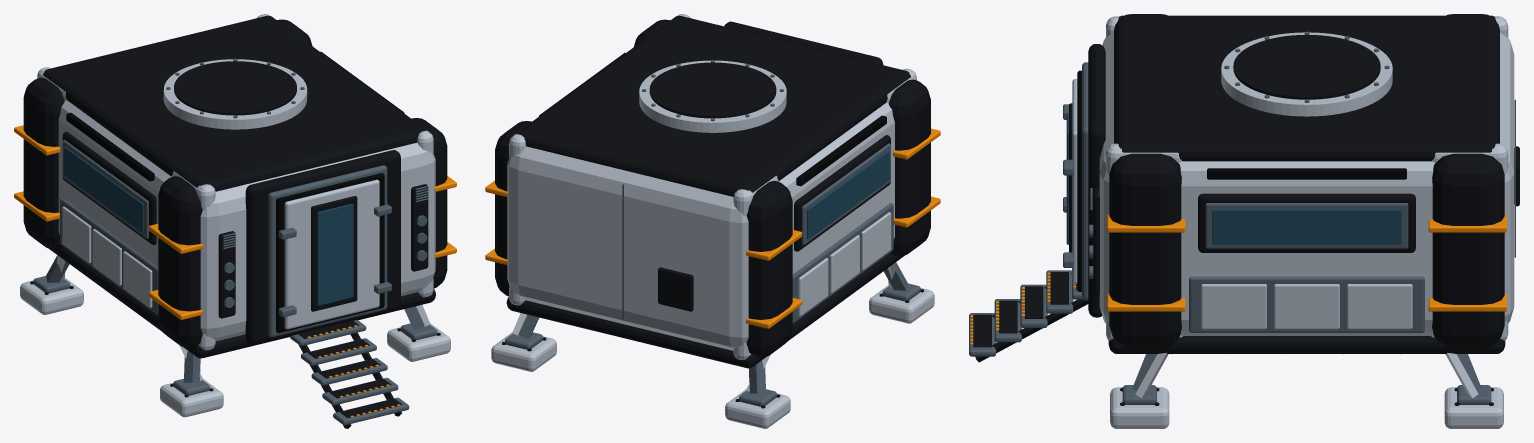
Rendered from base_colony.obj.
3 views of the same model, side by side, from view 1: azimuth 30°, elevation 25°; view 2: azimuth 150°, elevation 25°; view 3: azimuth 270°, elevation 25° (orthographic). The views are drawn at different scales.
Parts seen in each view (by area): view 1: Roof graphite cap_2, Pressurised habitat shell_0, Entrance dark octagonal surround_65, Airlock door_68, Corner impact pod_17, Roof hatch inset_4, Corner impact pod_29, Door glass_70, Roof hatch surround_3, Entrance inner metal rim_66, Underside chassis_1, Entrance shadow gasket_67 (+30 smaller); view 2: Pressurised habitat shell_0, Roof graphite cap_2, Corner impact pod_29, Roof hatch inset_4, Corner impact pod_17, Underside chassis_1, Roof hatch surround_3, Window blue pane_98, Corner impact pod_53, Lower side panel_99, Window black frame_96, Landing foot_57 (+16 smaller); view 3: Roof graphite cap_2, Pressurised habitat shell_0, Corner impact pod_41, Corner impact pod_53, Roof hatch inset_4, Window blue pane_110, Underside chassis_1, Lower side panel_111, Roof hatch surround_3, Window black frame_108, Entrance dark octagonal surround_65, Inset armour tile_113 (+30 smaller).
Boxes of the visible parts, <box> form: Roof graphite cap_2: <box>43,15,427,191</box>; Pressurised habitat shell_0: <box>58,100,435,341</box>; Entrance dark octagonal surround_65: <box>245,150,400,344</box>; Airlock door_68: <box>284,179,379,329</box>; Corner impact pod_17: <box>158,176,202,347</box>; Roof hatch inset_4: <box>174,61,296,115</box>; Corner impact pod_29: <box>23,77,64,249</box>; Door glass_70: <box>317,203,353,305</box>; Roof hatch surround_3: <box>163,59,307,129</box>; Entrance inner metal rim_66: <box>268,165,387,337</box>; Underside chassis_1: <box>49,246,435,358</box>; Entrance shadow gasket_67: <box>276,173,384,333</box>; Pressurised habitat shell_0: <box>507,103,894,350</box>; Roof graphite cap_2: <box>516,15,910,196</box>; Corner impact pod_29: <box>746,181,792,357</box>; Roof hatch inset_4: <box>649,62,776,118</box>; Corner impact pod_17: <box>888,79,930,256</box>; Underside chassis_1: <box>506,253,904,368</box>; Roof hatch surround_3: <box>639,60,786,132</box>; Window blue pane_98: <box>807,150,889,239</box>; Corner impact pod_53: <box>495,121,531,296</box>; Lower side panel_99: <box>792,203,893,323</box>; Window black frame_96: <box>794,135,890,251</box>; Landing foot_57: <box>491,332,556,371</box>; Roof graphite cap_2: <box>1114,15,1499,161</box>; Pressurised habitat shell_0: <box>1099,32,1514,335</box>; Corner impact pod_41: <box>1109,153,1181,348</box>; Corner impact pod_53: <box>1432,153,1504,348</box>; Roof hatch inset_4: <box>1233,34,1380,99</box>; Window blue pane_110: <box>1212,209,1401,244</box>; Underside chassis_1: <box>1108,336,1505,353</box>; Lower side panel_111: <box>1189,276,1424,332</box>; Roof hatch surround_3: <box>1221,32,1392,116</box>; Window black frame_108: <box>1198,193,1415,252</box>; Entrance dark octagonal surround_65: <box>1088,44,1105,317</box>; Inset armour tile_113: <box>1274,284,1339,329</box>.
Bounding box in the file's own units: 5.34 × 4.42 × 7.71.
